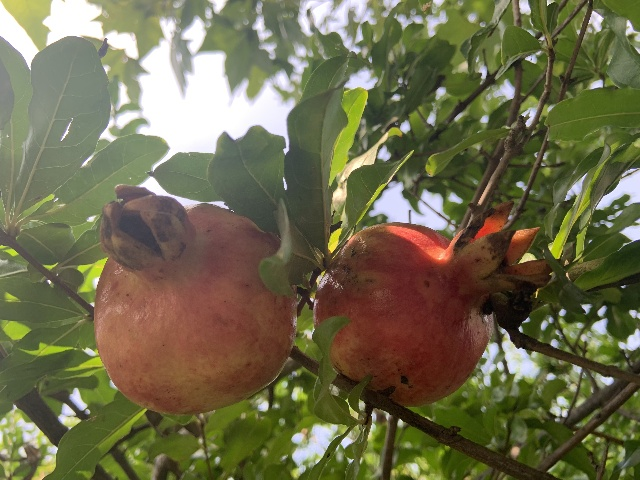ripe: (314, 202, 547, 405), (93, 184, 298, 414)
